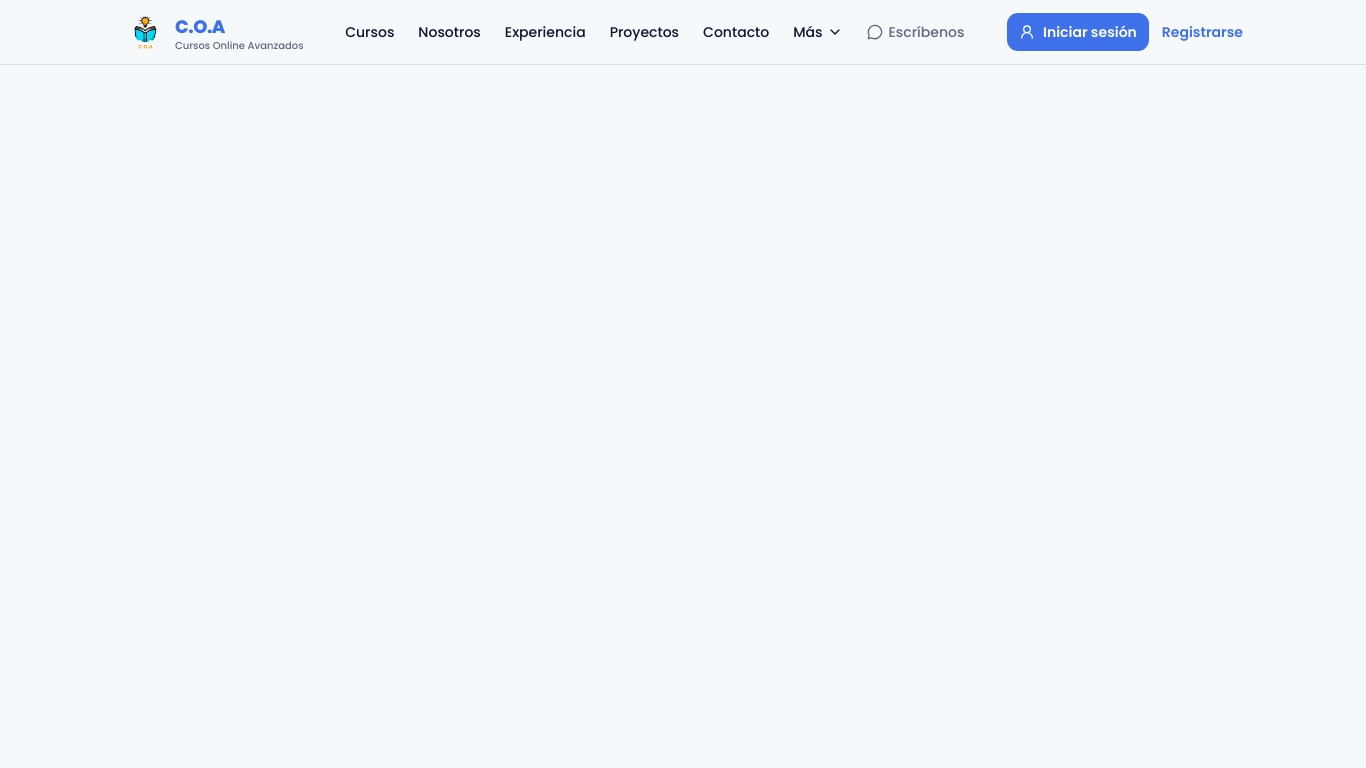
Scenario: opens and closes Más by click, outside click and Escape
The image size is (1366, 768).
Click the button "Más".
click(818, 32)  # box [793,22,842,42]
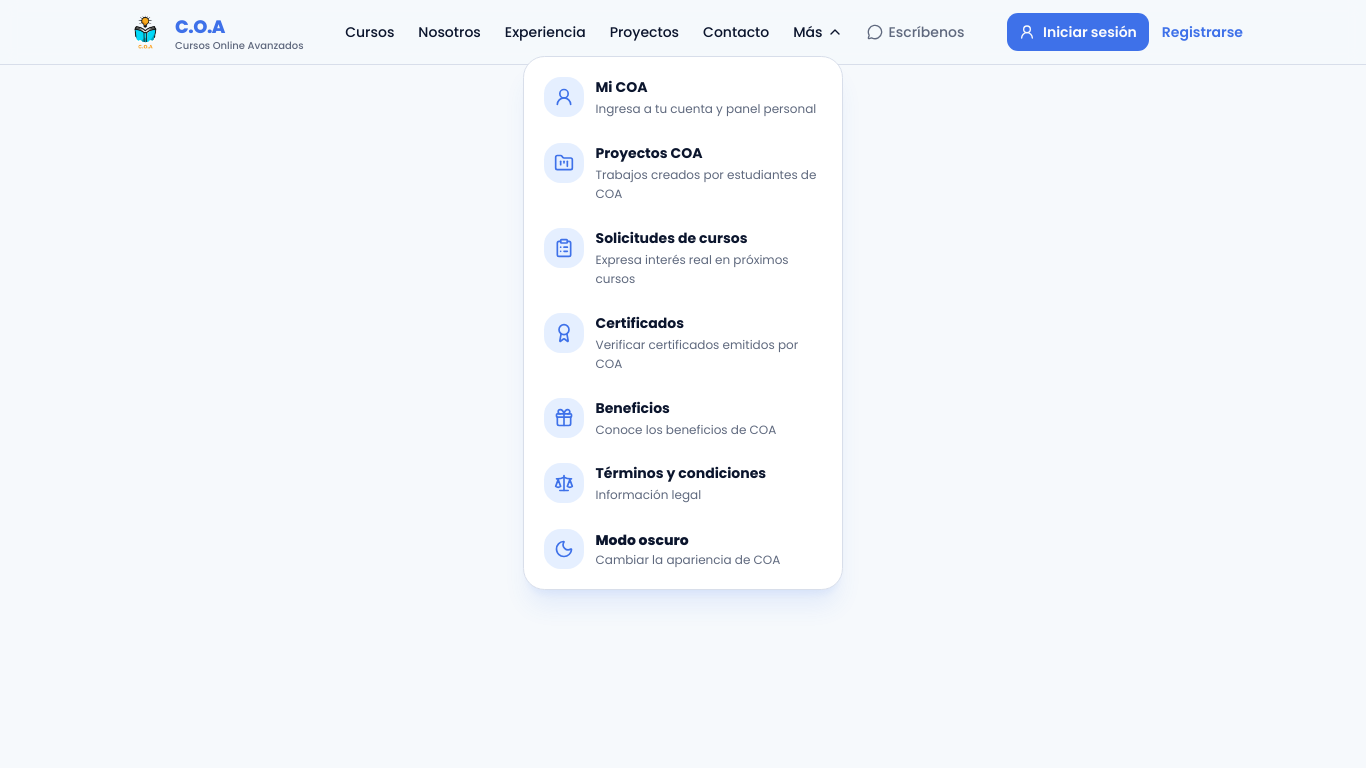
Expected: the button "Más" is expanded, [793,22,842,42]
Expected: the menu shows "Certificados", [532,300,834,386]
Press Escape
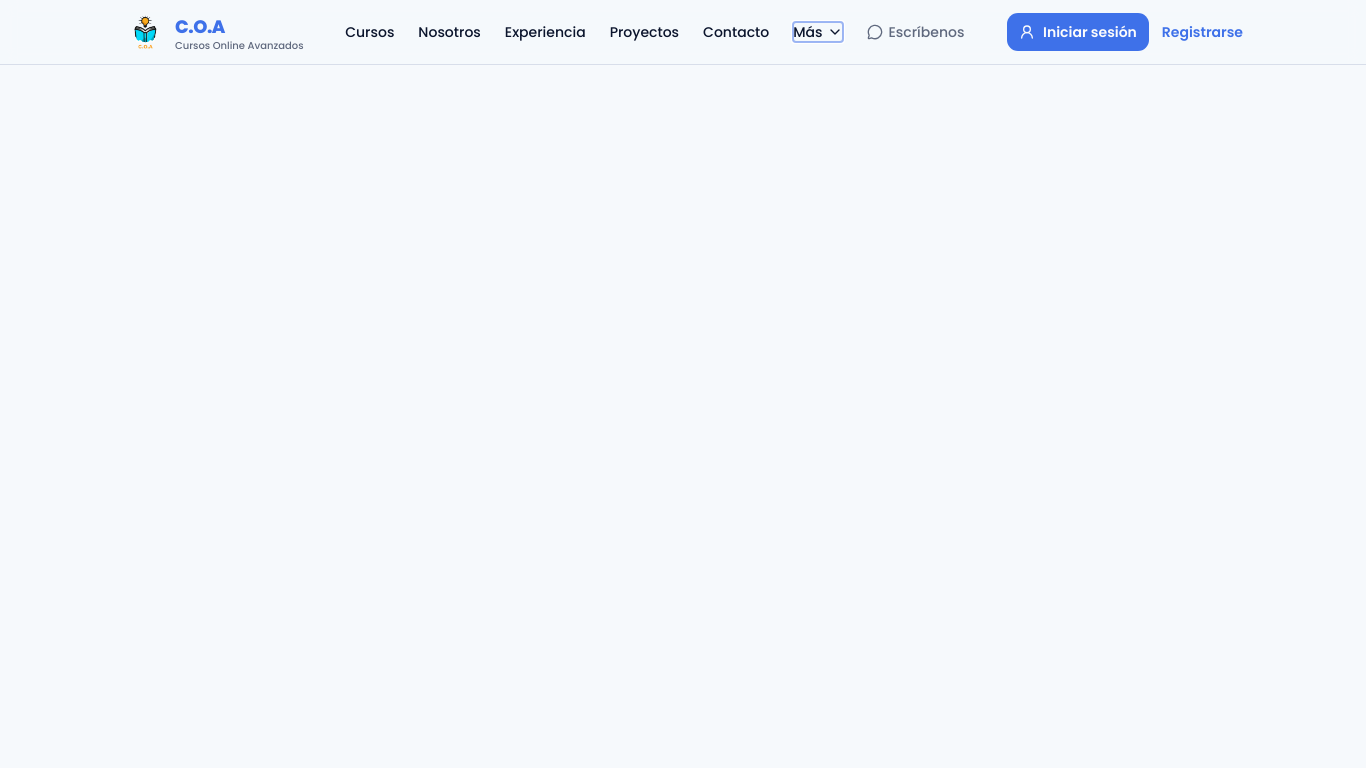
Expected: the button "Más" is collapsed
Click the button "Más".
click(818, 32)  # box [793,22,842,42]
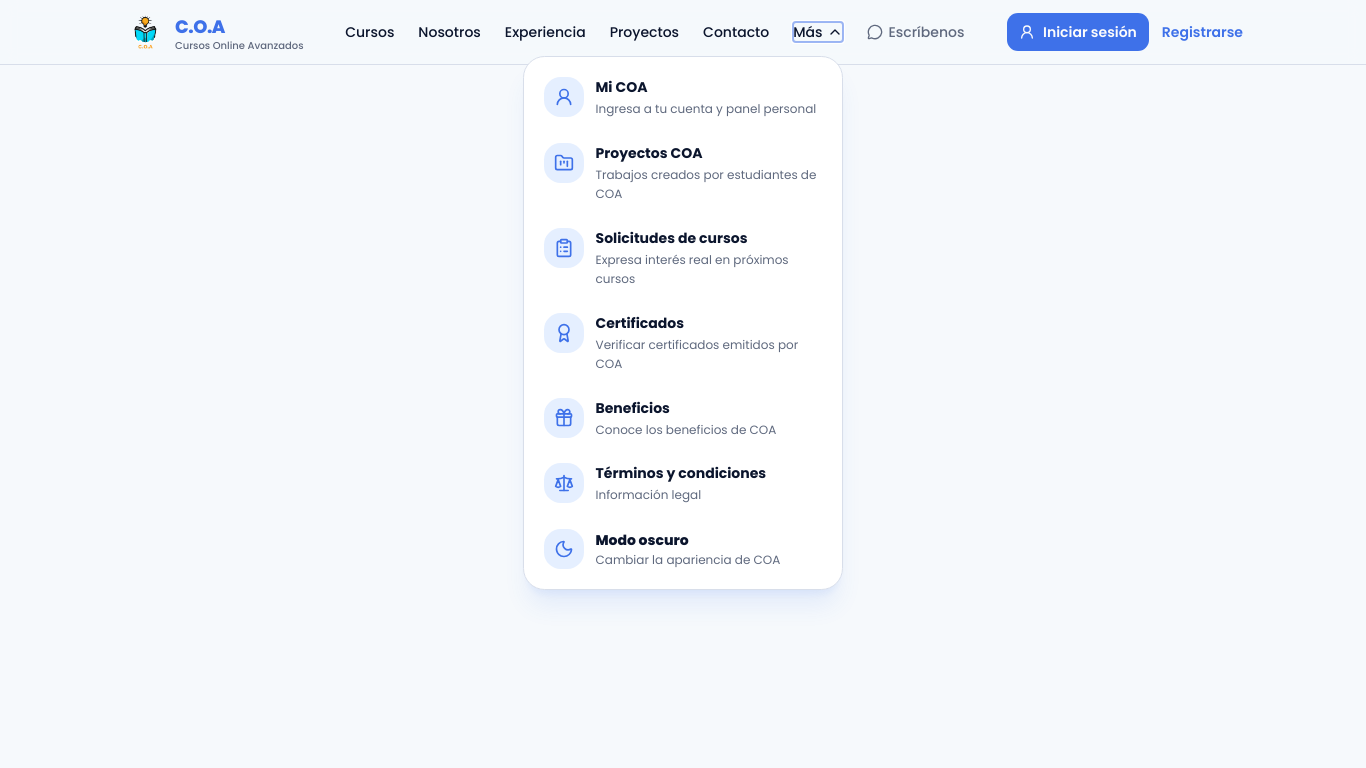
Press the mouse on the element that starts with "C.O.A" at (683, 32), box [0,0,1365,65]
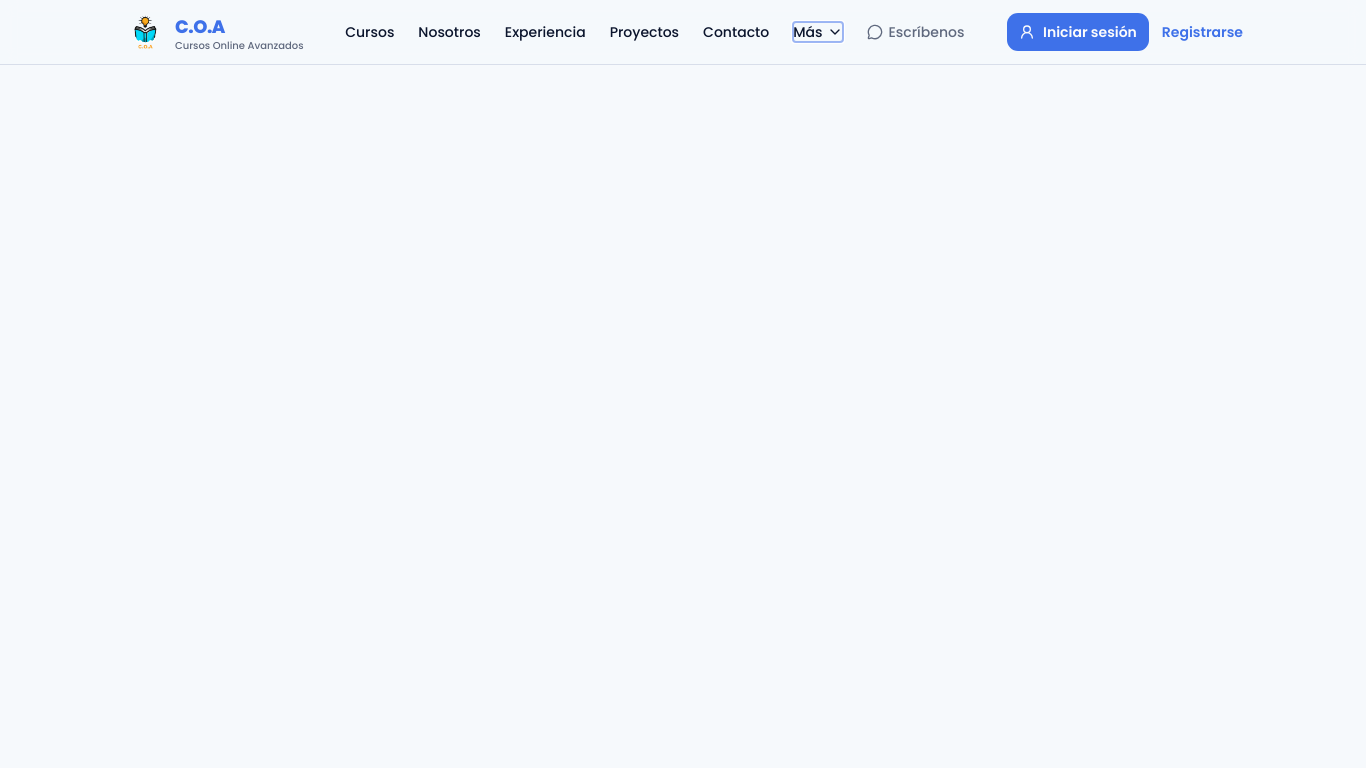
Expected: the button "Más" is collapsed, [793,22,842,42]
